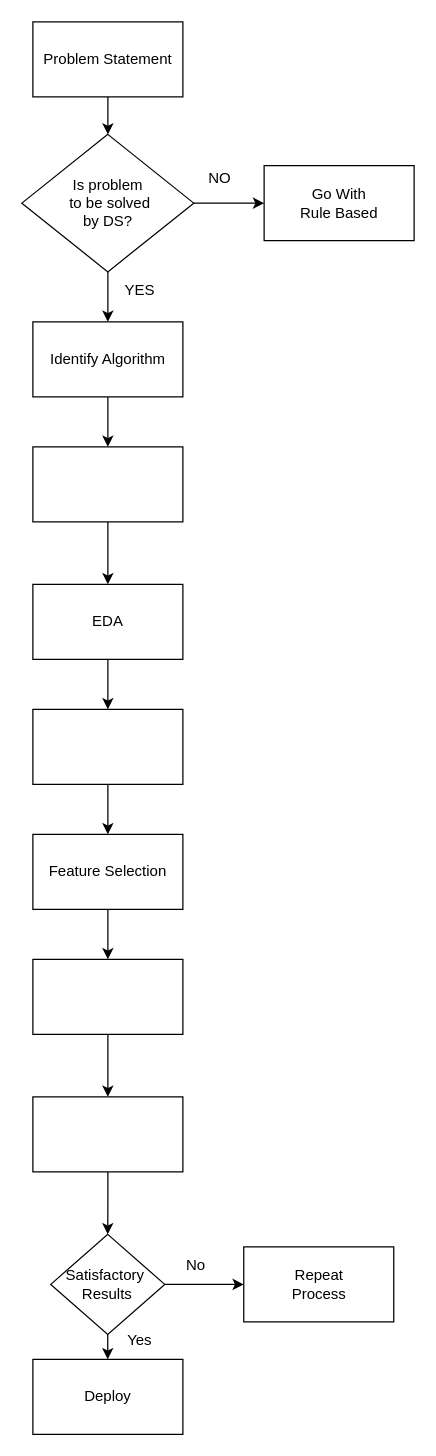
This 436x1456 diagram has some shape labels left out. Here are the shapes that lost their labels. From the top down, the centre of each, then its label:
At (107,484): "Identify Metric".
At (107,746): "Feature Engineering".
At (107,996): "Model Selection/Training".
At (107,1134): "Model Evalution".
